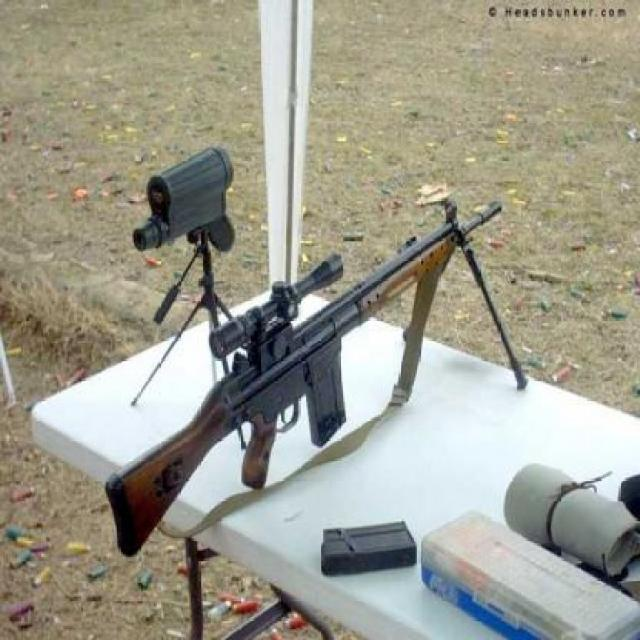weapon: (122, 208, 496, 518)
